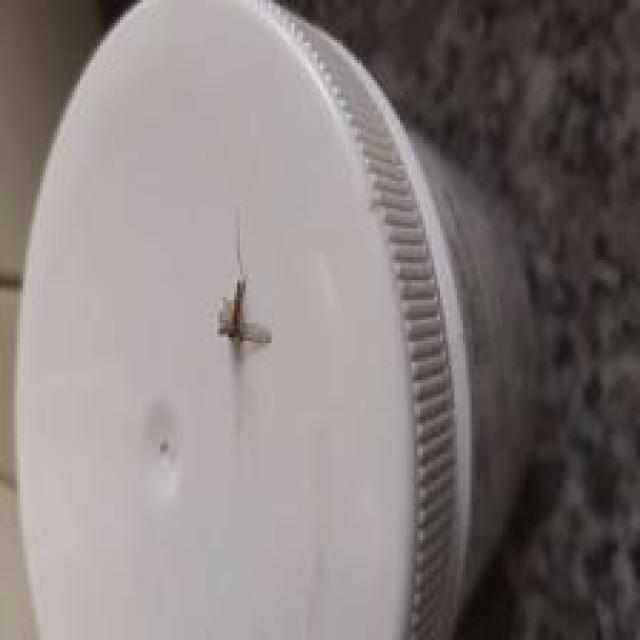Culex: (216, 205, 273, 348)
